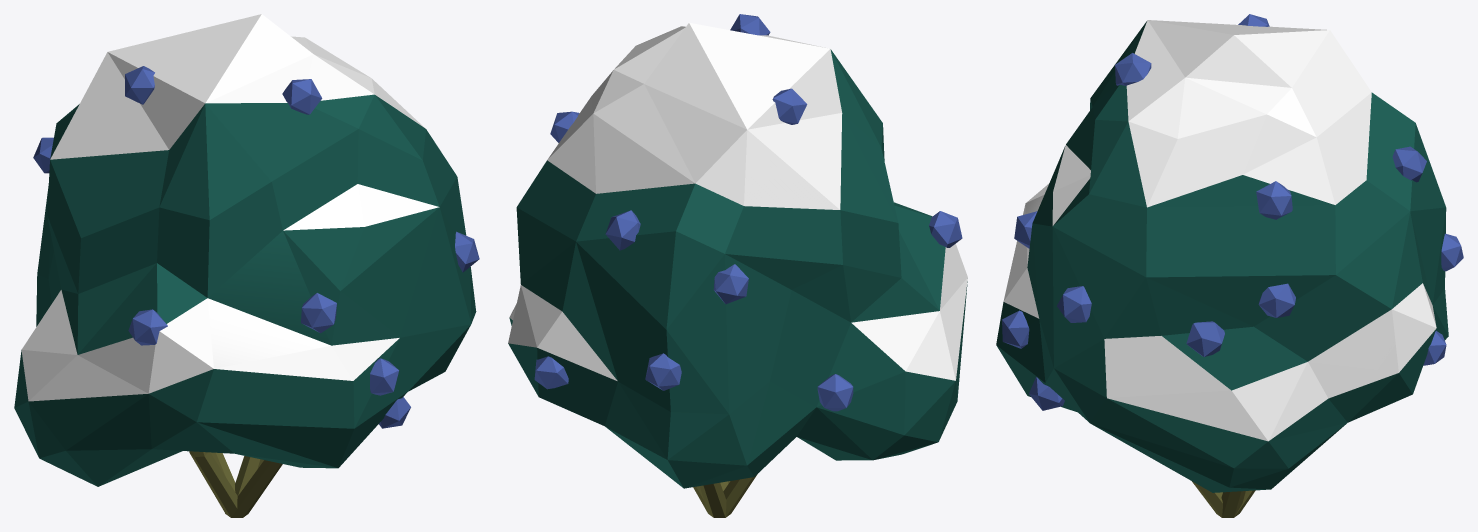
Rendered from Bush_Berries_Blue.fbx.
3 views of the same model, side by side, from view 1: azimuth 30°, elevation 25°; view 2: azimuth 150°, elevation 25°; view 3: azimuth 270°, elevation 25° (orthographic).
Parts seen in each view (by area): view 1: Bush_Berries_Blue; view 2: Bush_Berries_Blue; view 3: Bush_Berries_Blue.
Boxes of the visible parts, x1,y1,x2,y2 form: Bush_Berries_Blue: [14, 14, 479, 517]; Bush_Berries_Blue: [508, 14, 967, 517]; Bush_Berries_Blue: [996, 14, 1463, 517].
Bounding box in the file's own units: 0.9978 × 1.13 × 0.9697.
